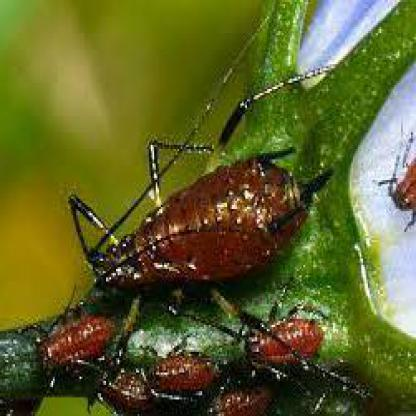uroleucon compositae: (69, 100, 335, 328)
